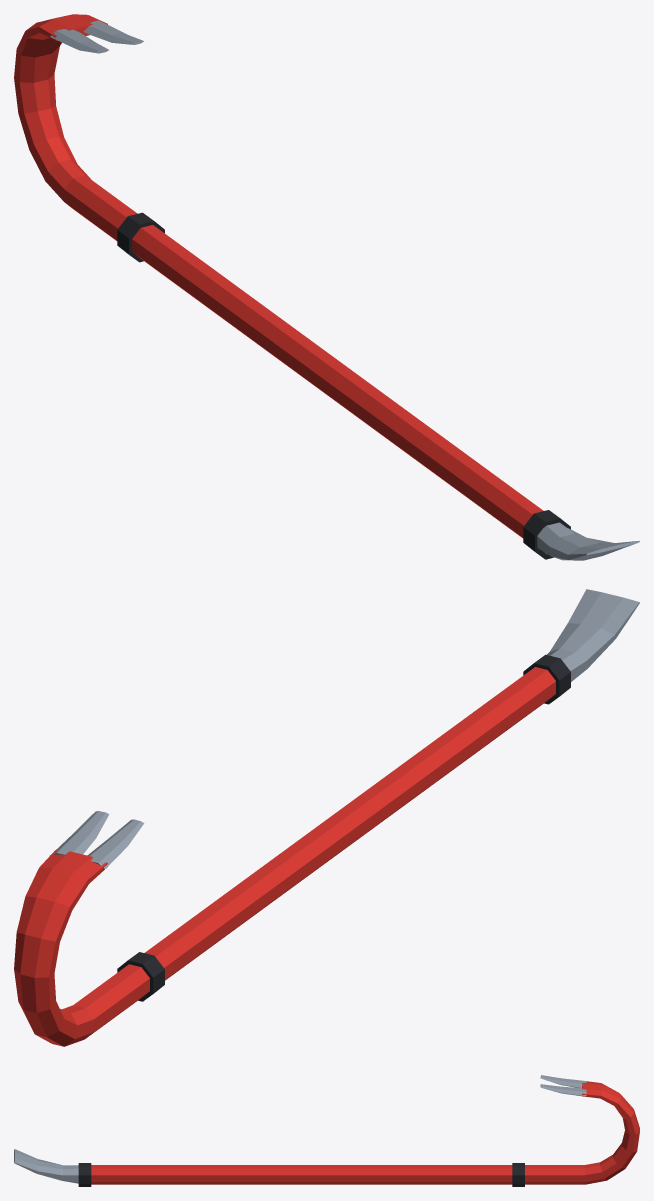
Rendered from crowbar.glb.
3 views of the same model, one above another, from view 1: azimuth 30°, elevation 25°; view 2: azimuth 150°, elevation 25°; view 3: azimuth 270°, elevation 25° (orthographic). The views are drawn at different scales.
Parts seen in each view (by area): view 1: Body; view 2: Body; view 3: Body.
Boxes of the visible parts, x1,y1,x2,y2 form: Body: [14, 14, 639, 560]; Body: [14, 589, 639, 1046]; Body: [14, 1075, 639, 1186].
Bounding box in the file's own units: 0.033 × 0.1108 × 0.6034.
